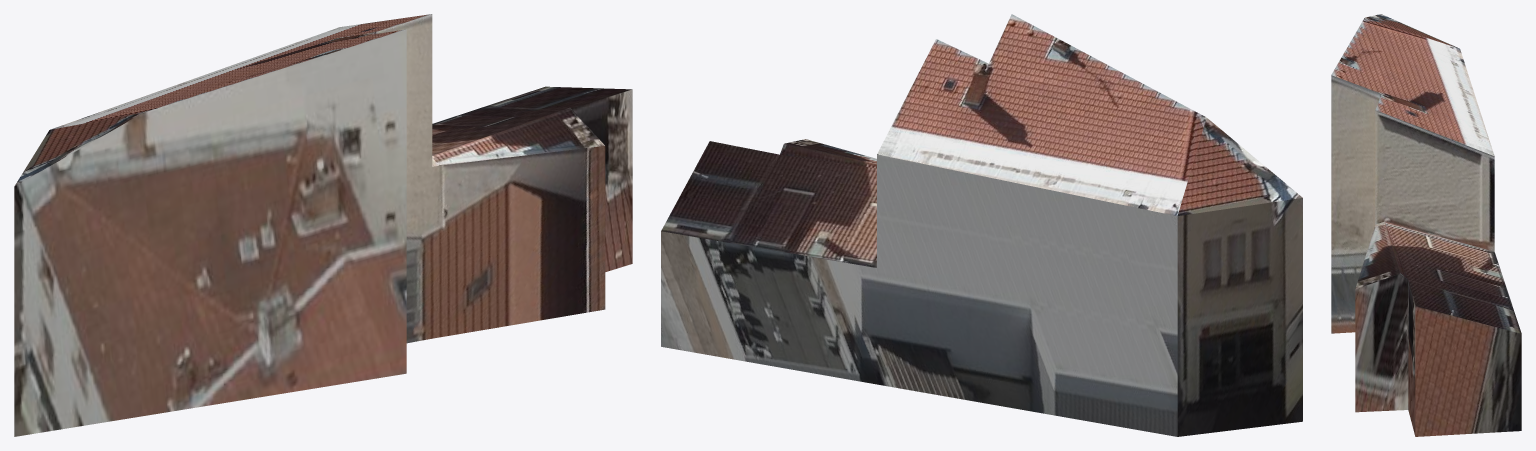
3 views of the same model, side by side, from view 1: azimuth 30°, elevation 25°; view 2: azimuth 150°, elevation 25°; view 3: azimuth 270°, elevation 25° (orthographic). The views are drawn at different scales.
Visible parts, largest first — view 1: Z_UP; view 2: Z_UP; view 3: Z_UP.
Boxes of the visible parts, x1,y1,x2,y2 form: Z_UP: [14, 14, 632, 436]; Z_UP: [661, 14, 1302, 436]; Z_UP: [1331, 14, 1521, 436].
Size of the model in its own units: 28.53 by 14.64 by 9.78.
2 materials, 1 textured.
